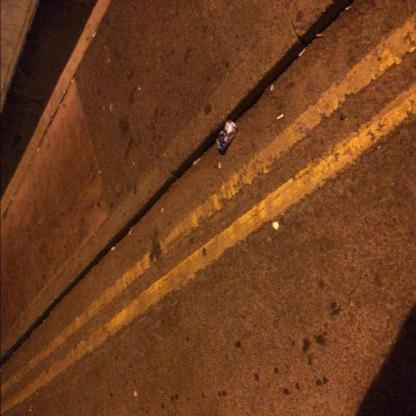Can: (216, 120, 237, 152)
Cigarette: (300, 47, 308, 57), (277, 114, 284, 120), (345, 5, 351, 10), (316, 33, 324, 36), (92, 32, 96, 37), (270, 85, 273, 91), (219, 162, 220, 168)
Unlabeled litter: (272, 223, 278, 230)
